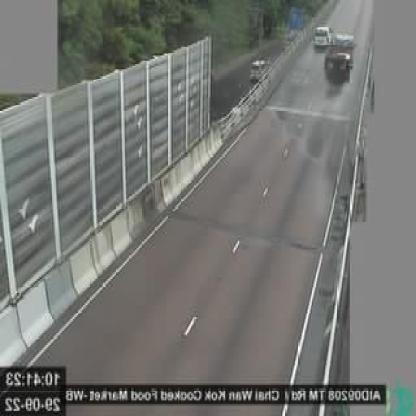Car: (244, 55, 273, 85), (311, 23, 333, 50)
Truck: (325, 30, 360, 82)
